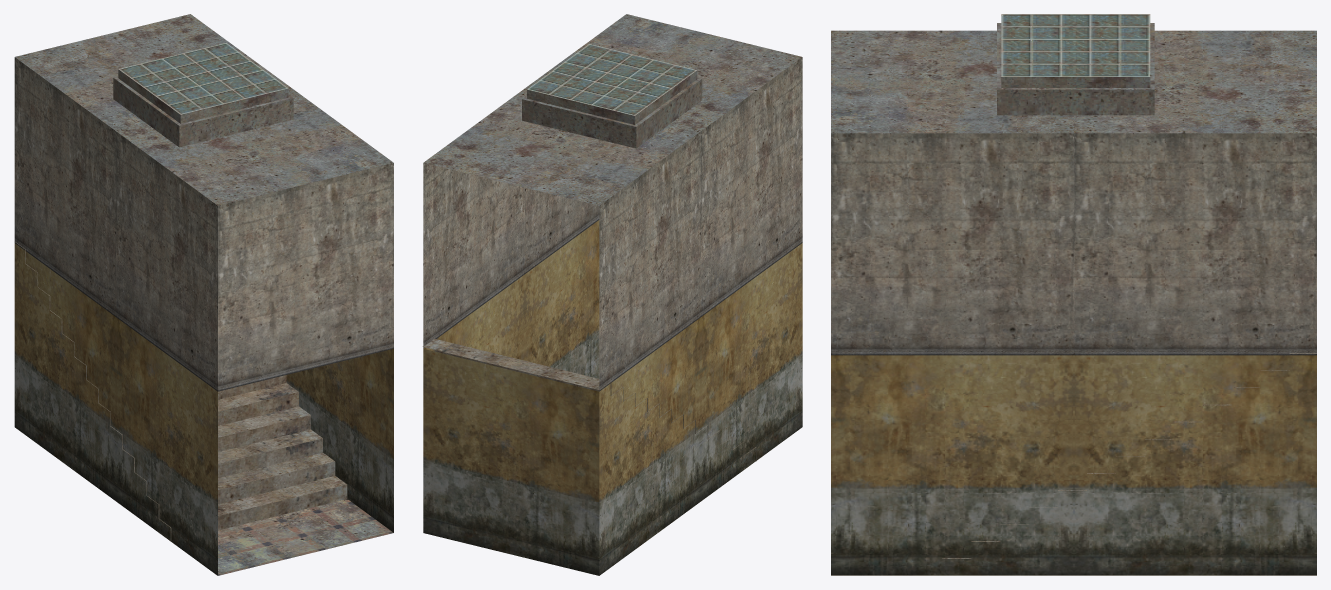
Rendered from _Corridor_part16.FBX.
3 views of the same model, side by side, from view 1: azimuth 30°, elevation 25°; view 2: azimuth 150°, elevation 25°; view 3: azimuth 270°, elevation 25° (orthographic). The views are drawn at different scales.
Parts seen in each view (by area): view 1: Corridor_Part16; view 2: Corridor_Part16; view 3: Corridor_Part16.
Boxes of the visible parts, bbox=[...] form: Corridor_Part16: bbox=[14, 14, 393, 575]; Corridor_Part16: bbox=[422, 14, 802, 575]; Corridor_Part16: bbox=[831, 14, 1316, 575].
Bounding box in the file's own units: 256 × 552 × 508.
Materials: 6 (6 with a texture image).
